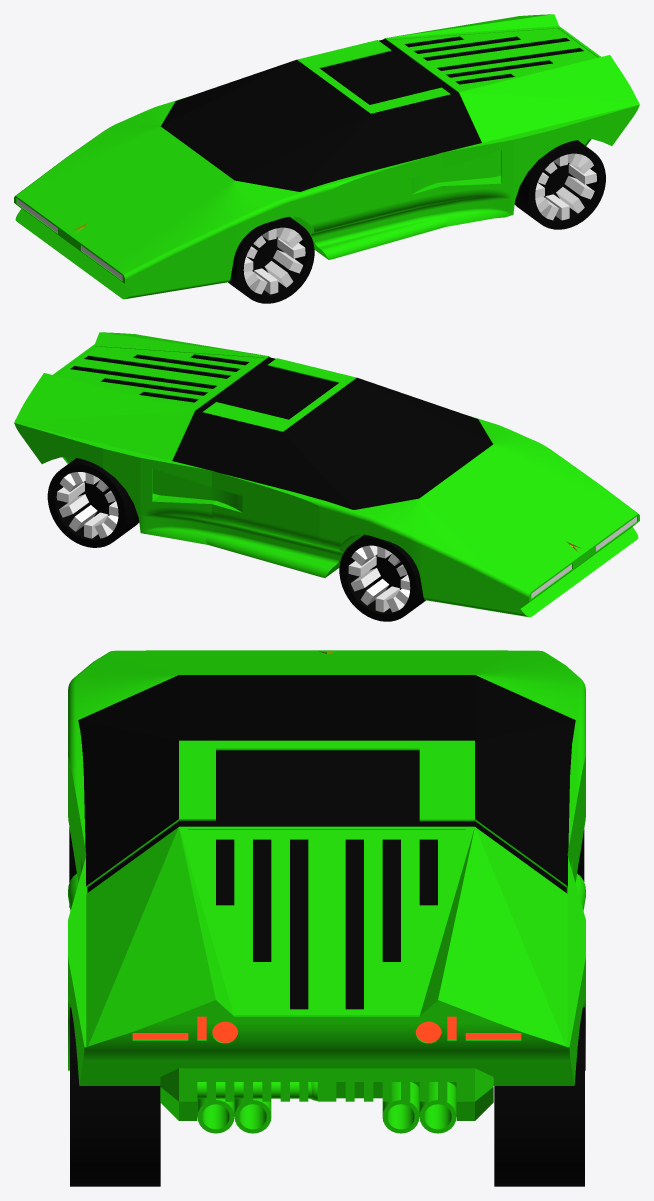
File: lamborgrheeni.fbx
3 views of the same model, one above another, from view 1: azimuth 30°, elevation 25°; view 2: azimuth 150°, elevation 25°; view 3: azimuth 270°, elevation 25° (orthographic). The views are drawn at different scales.
Parts seen in each view (by area): view 1: car body, Tire BL, Tire FL; view 2: car body, Tire BR, Tire FR; view 3: car body, Tire BR, Tire BL.
Boxes of the visible parts, left/top/right/bottom form: car body: left=14, top=14, right=639, bottom=299; Tire BL: left=514, top=140, right=605, bottom=229; Tire FL: left=228, top=216, right=314, bottom=303; car body: left=14, top=332, right=639, bottom=617; Tire BR: left=47, top=458, right=139, bottom=547; Tire FR: left=339, top=534, right=425, bottom=621; car body: left=68, top=650, right=585, bottom=1133; Tire BR: left=494, top=1007, right=584, bottom=1186; Tire BL: left=70, top=1007, right=160, bottom=1186.
Bounding box in the file's own units: 6400 × 1658 × 2800.
